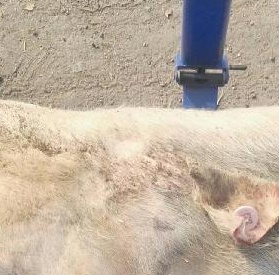text: (214, 186, 275, 246)
